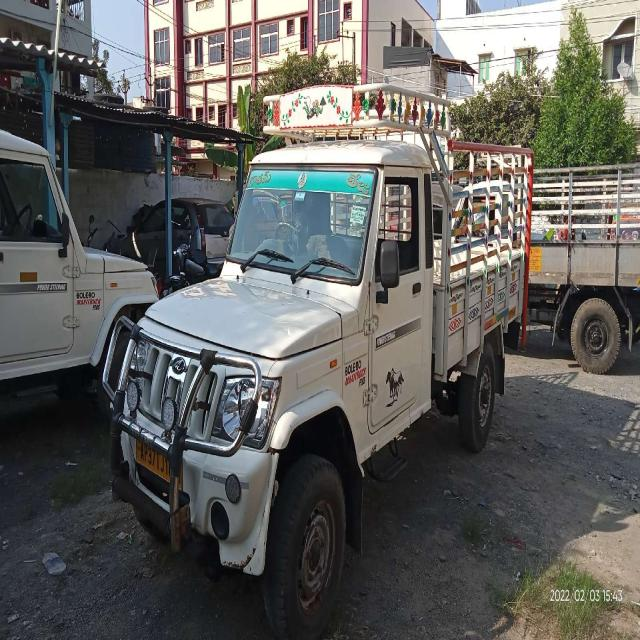light_vehicle: (110, 148, 528, 574)
